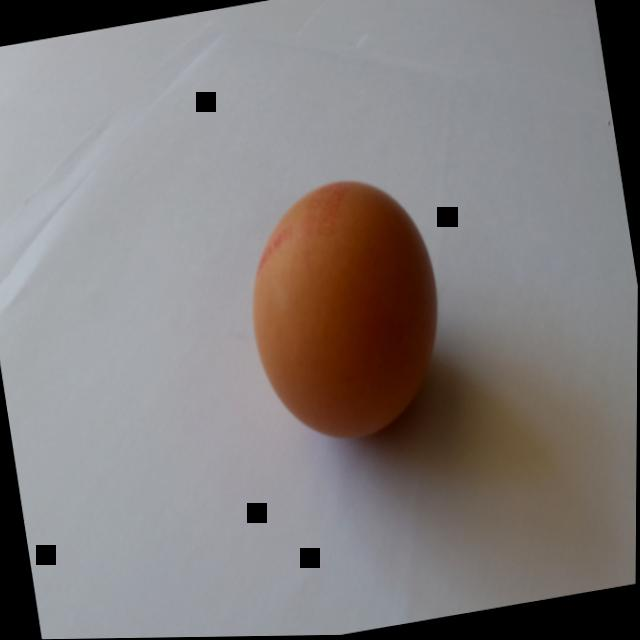Egg: (199, 131, 488, 479)
